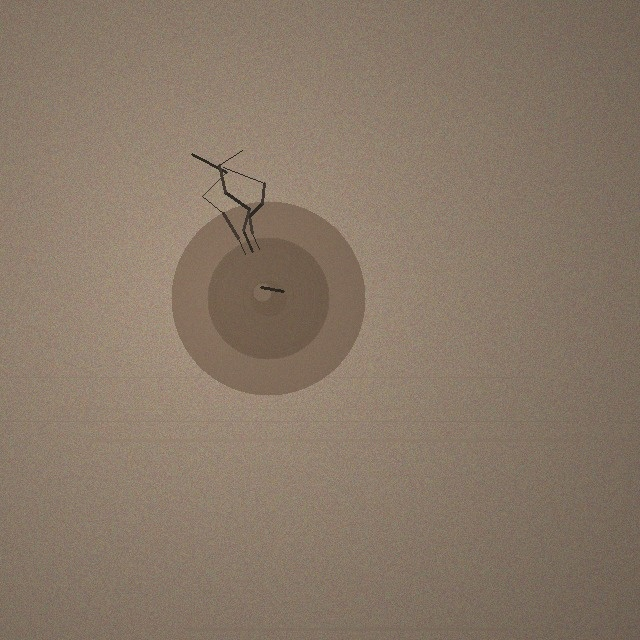crack: (171, 201, 365, 395)
